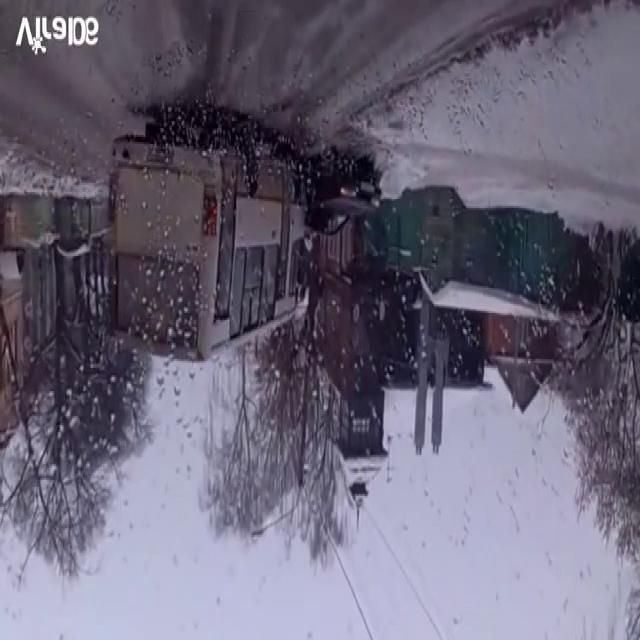moderate: (106, 102, 384, 374)
